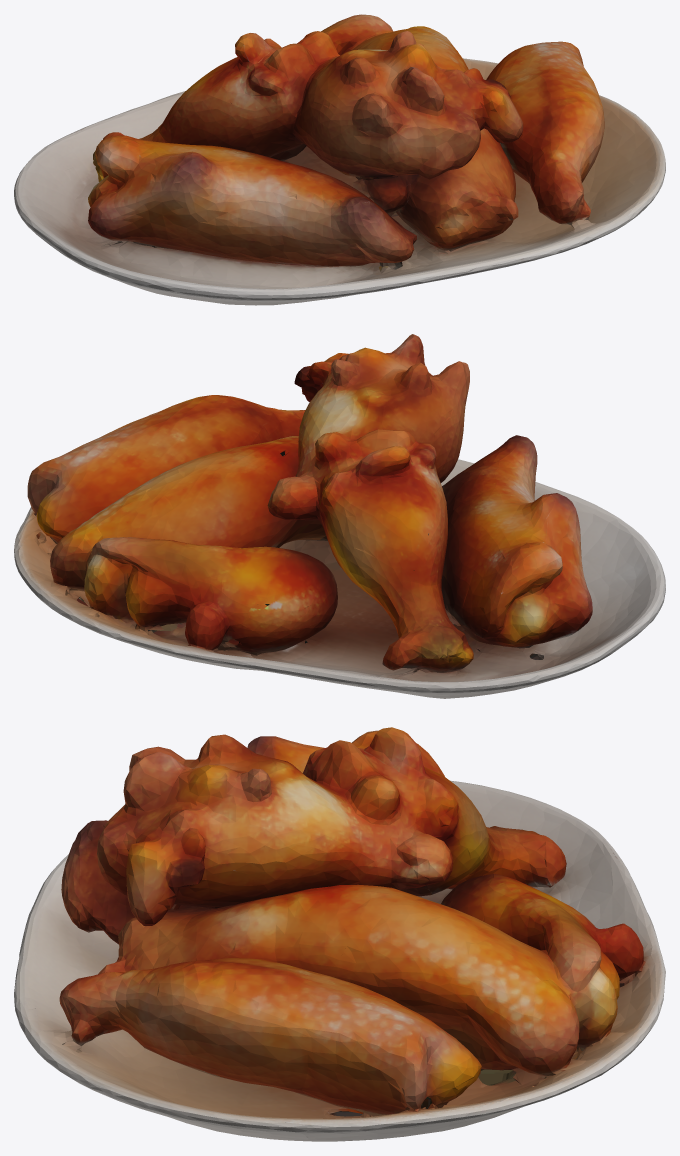
Rendered from wings.glb.
3 renders of one model, top to bottom at view 1: azimuth 30°, elevation 25°; view 2: azimuth 150°, elevation 25°; view 3: azimuth 270°, elevation 25°, orthographic. The views are drawn at different scales.
Parts seen in each view (by area): view 1: world; view 2: world; view 3: world.
Boxes of the visible parts, bbox=[...] form: world: bbox=[14, 14, 665, 305]; world: bbox=[14, 334, 665, 698]; world: bbox=[14, 727, 665, 1141].
Size of the model in its own units: 0.9984 by 0.3704 by 0.7884.
1 material, 1 textured.
